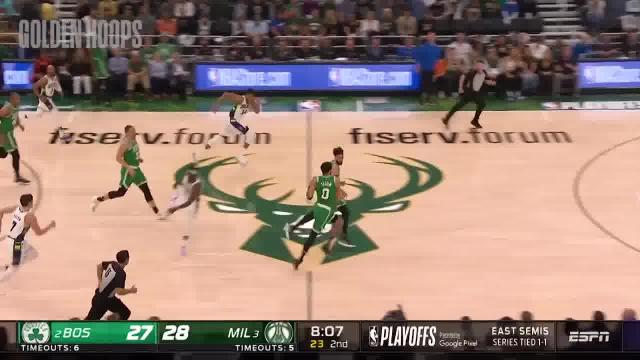ball-handler: (295, 158, 347, 274)
player: (110, 120, 158, 227), (205, 83, 264, 166), (0, 191, 39, 301), (167, 165, 205, 258), (322, 141, 352, 252), (1, 89, 32, 185), (35, 62, 67, 146)
